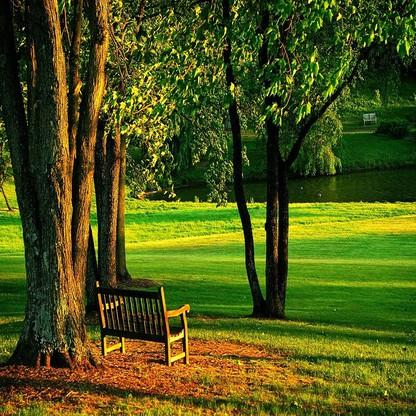obstacle: (67, 263, 208, 381)
